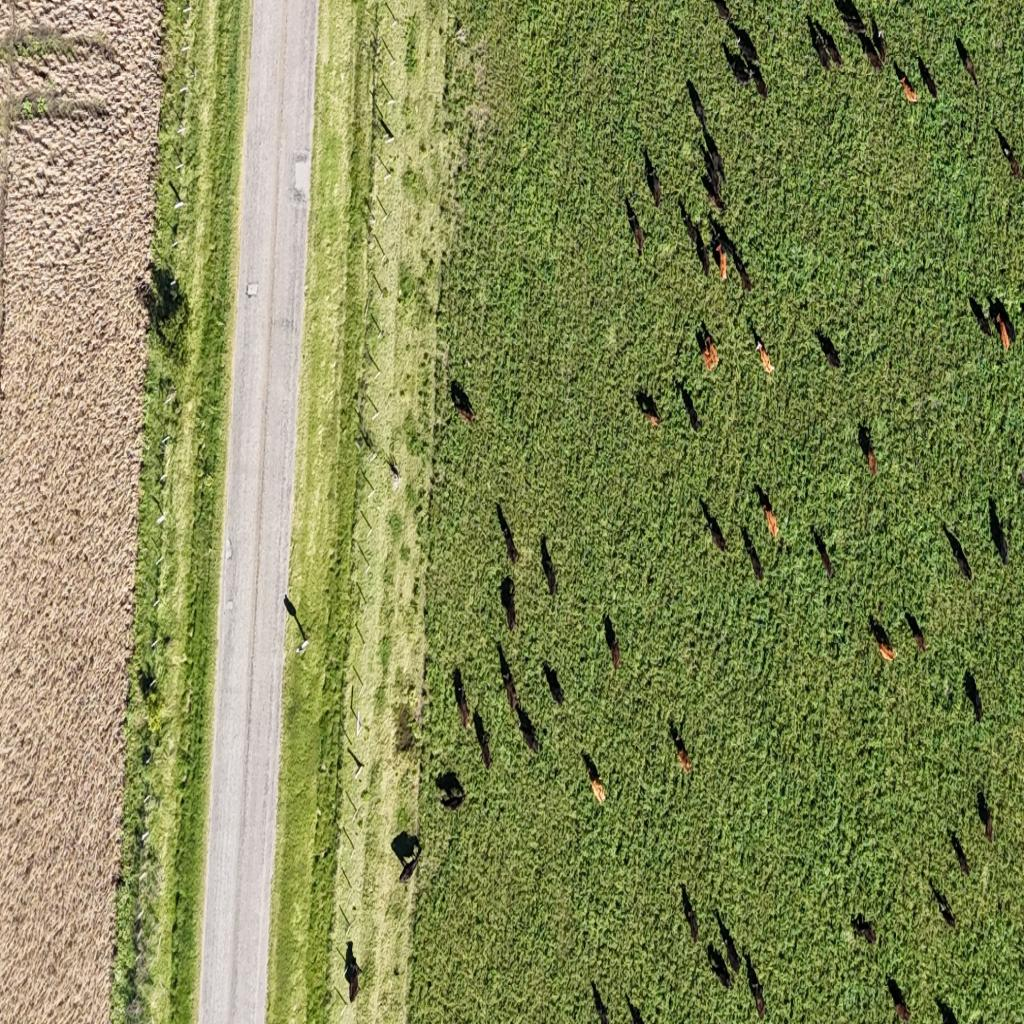cow: (680, 203, 707, 274), (942, 523, 973, 582), (713, 908, 741, 973), (393, 829, 423, 885), (988, 496, 1011, 566), (988, 294, 1016, 350), (700, 498, 728, 554), (753, 483, 780, 541), (445, 378, 480, 420), (745, 953, 767, 1019), (342, 939, 364, 1004), (436, 768, 466, 815), (996, 128, 1024, 178), (868, 617, 896, 665), (584, 748, 608, 803), (832, 0, 867, 36), (670, 719, 692, 776), (886, 975, 912, 1023), (956, 34, 978, 90), (742, 528, 765, 581), (968, 295, 995, 340), (811, 526, 834, 578), (688, 76, 710, 130), (931, 883, 956, 930), (730, 242, 752, 295), (498, 643, 516, 706), (815, 329, 842, 371), (625, 194, 643, 257), (893, 60, 920, 102), (707, 942, 731, 989), (753, 330, 776, 379), (643, 146, 661, 207), (474, 710, 492, 770), (680, 883, 698, 943), (963, 671, 983, 724), (517, 707, 539, 755), (638, 388, 663, 430), (679, 383, 700, 433), (604, 616, 622, 674), (858, 425, 878, 477), (904, 611, 928, 654), (949, 830, 970, 878), (543, 660, 564, 706), (977, 790, 995, 843), (540, 535, 557, 591), (699, 143, 721, 186), (500, 512, 518, 564), (918, 54, 938, 100), (850, 912, 876, 946), (810, 42, 835, 76), (591, 979, 610, 1023), (502, 577, 517, 632), (738, 28, 760, 64), (701, 329, 719, 371), (711, 144, 729, 186), (863, 38, 884, 74), (750, 63, 768, 102), (452, 668, 466, 718), (703, 184, 726, 214), (936, 996, 960, 1024), (732, 52, 750, 87), (823, 38, 844, 68), (709, 0, 734, 25), (714, 239, 728, 282), (626, 994, 646, 1024), (878, 29, 888, 63)
